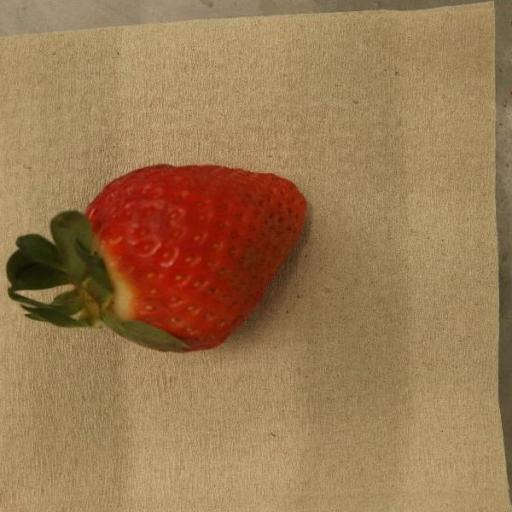Strawberry: (4, 164, 306, 354)
